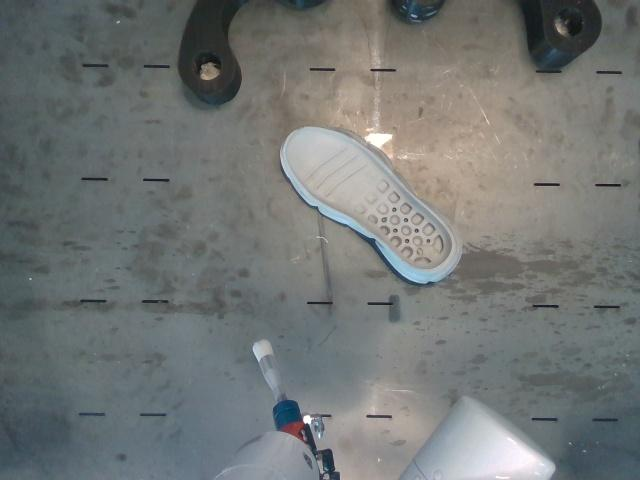shoes: (285, 128, 452, 270)
